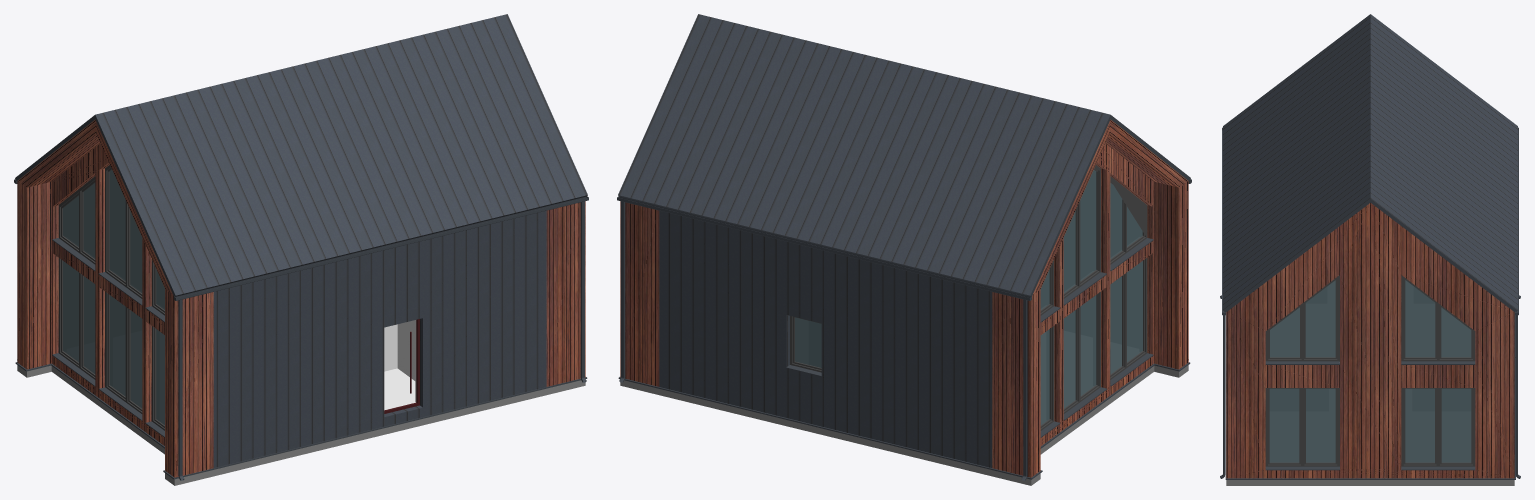
Rendered from DOM 1b_3D_rev9.obj.
The picture shows the model from 3 angles, left to right: view 1: azimuth 30°, elevation 25°; view 2: azimuth 150°, elevation 25°; view 3: azimuth 270°, elevation 25°; orthographic projection. The views are drawn at different scales.
Parts seen in each view (by area): view 1: Mesh1 Model, Mesh2 Model, Mesh6 Model, Mesh3 Model; view 2: Mesh1 Model, Mesh5 Model, Mesh4 Model; view 3: Mesh1 Model, Mesh3 Model, Mesh4 Model.
Boxes of the visible parts, left/top/right/bottom form: Mesh1 Model: left=14, top=14, right=587, bottom=485; Mesh2 Model: left=174, top=196, right=588, bottom=300; Mesh6 Model: left=178, top=299, right=184, bottom=480; Mesh3 Model: left=580, top=201, right=586, bottom=382; Mesh1 Model: left=617, top=14, right=1190, bottom=485; Mesh5 Model: left=1021, top=299, right=1027, bottom=480; Mesh4 Model: left=619, top=201, right=625, bottom=382; Mesh1 Model: left=1223, top=14, right=1518, bottom=485; Mesh3 Model: left=1220, top=315, right=1225, bottom=478; Mesh4 Model: left=1515, top=315, right=1520, bottom=478.
Bounding box in the file's own units: 1062 × 771 × 730.
Materials: 10 (3 with a texture image).
